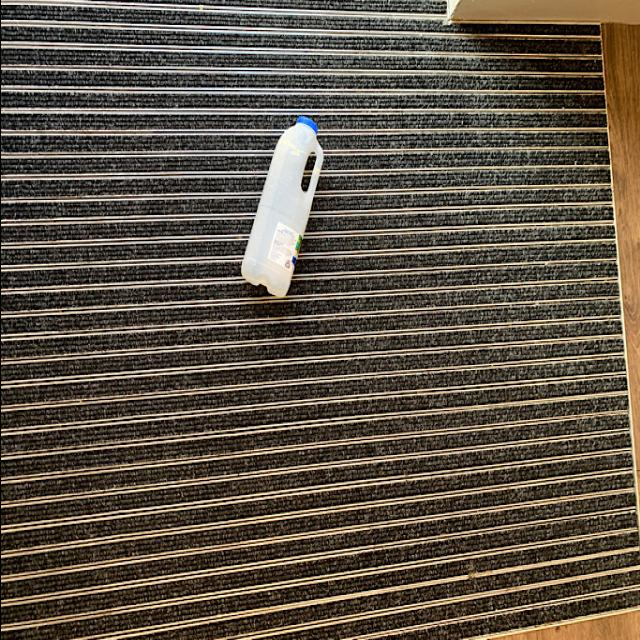HDPEM: (237, 109, 321, 305)
